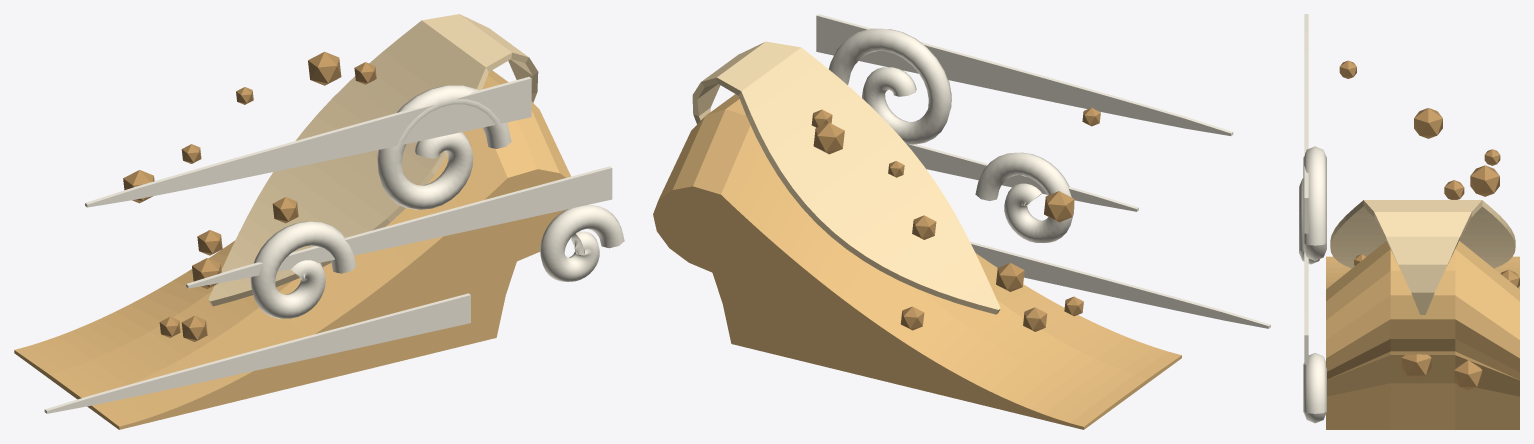
File: SD_FX_SandGust.fbx
3 renders of one model, left to right at view 1: azimuth 30°, elevation 25°; view 2: azimuth 150°, elevation 25°; view 3: azimuth 270°, elevation 25°, orthographic. The views are drawn at different scales.
Parts seen in each view (by area): view 1: Crest, Foam, Streak1, Streak2, Streak3, Swirl1, Swirl2, Grit, Swirl3; view 2: Crest, Foam, Streak1, Swirl1, Swirl2, Grit, Streak3, Streak2; view 3: Crest, Foam, Grit, Swirl1, Swirl3, Streak1, Streak2, Swirl2.
Boxes of the visible parts, x1=… form: Crest: x1=14, y1=70, x2=570, y2=429; Foam: x1=208, y1=14, x2=538, y2=306; Streak1: x1=85, y1=77, x2=531, y2=207; Streak2: x1=186, y1=166, x2=612, y2=288; Streak3: x1=44, y1=293, x2=470, y2=413; Swirl1: x1=377, y1=85, x2=511, y2=209; Swirl2: x1=250, y1=221, x2=356, y2=318; Grit: x1=123, y1=51, x2=376, y2=341; Swirl3: x1=540, y1=205, x2=624, y2=281; Crest: x1=653, y1=94, x2=1181, y2=429; Foam: x1=692, y1=41, x2=1000, y2=314; Streak1: x1=816, y1=14, x2=1233, y2=135; Swirl1: x1=829, y1=28, x2=951, y2=144; Swirl2: x1=975, y1=152, x2=1074, y2=242; Grit: x1=811, y1=107, x2=1100, y2=331; Streak3: x1=970, y1=241, x2=1270, y2=328; Streak2: x1=906, y1=144, x2=1138, y2=211; Crest: x1=1326, y1=241, x2=1519, y2=429; Foam: x1=1330, y1=200, x2=1515, y2=314; Grit: x1=1339, y1=60, x2=1519, y2=390; Swirl1: x1=1303, y1=146, x2=1326, y2=260; Swirl3: x1=1303, y1=353, x2=1326, y2=423; Streak1: x1=1304, y1=14, x2=1308, y2=233; Streak2: x1=1304, y1=252, x2=1308, y2=364; Swirl2: x1=1299, y1=178, x2=1319, y2=264.
Size of the model in its own units: 2.88 by 1.28 by 1.02.
